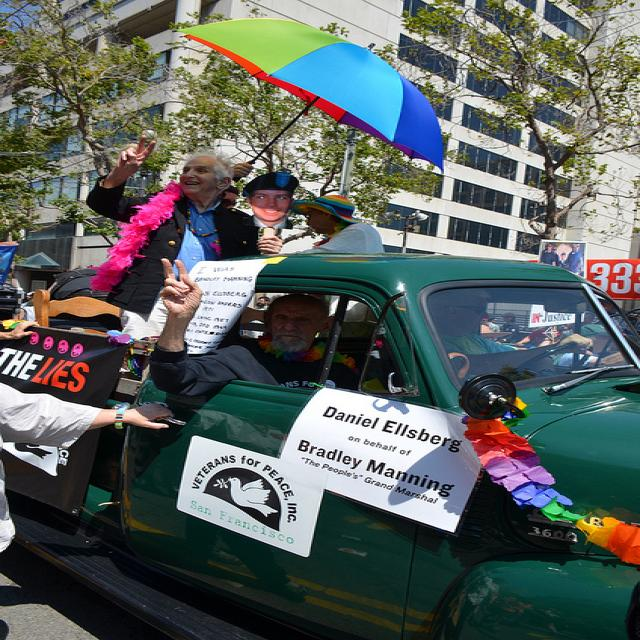Vehicle: (4, 243, 635, 640)
